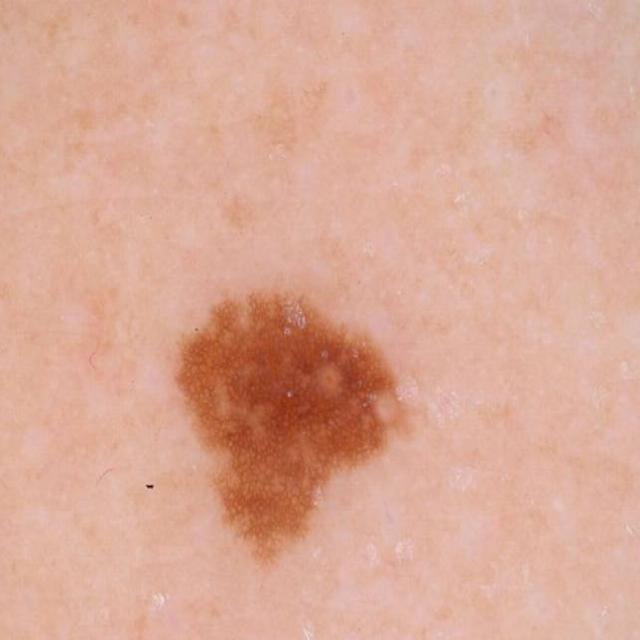Melanoma: (138, 194, 444, 621)
